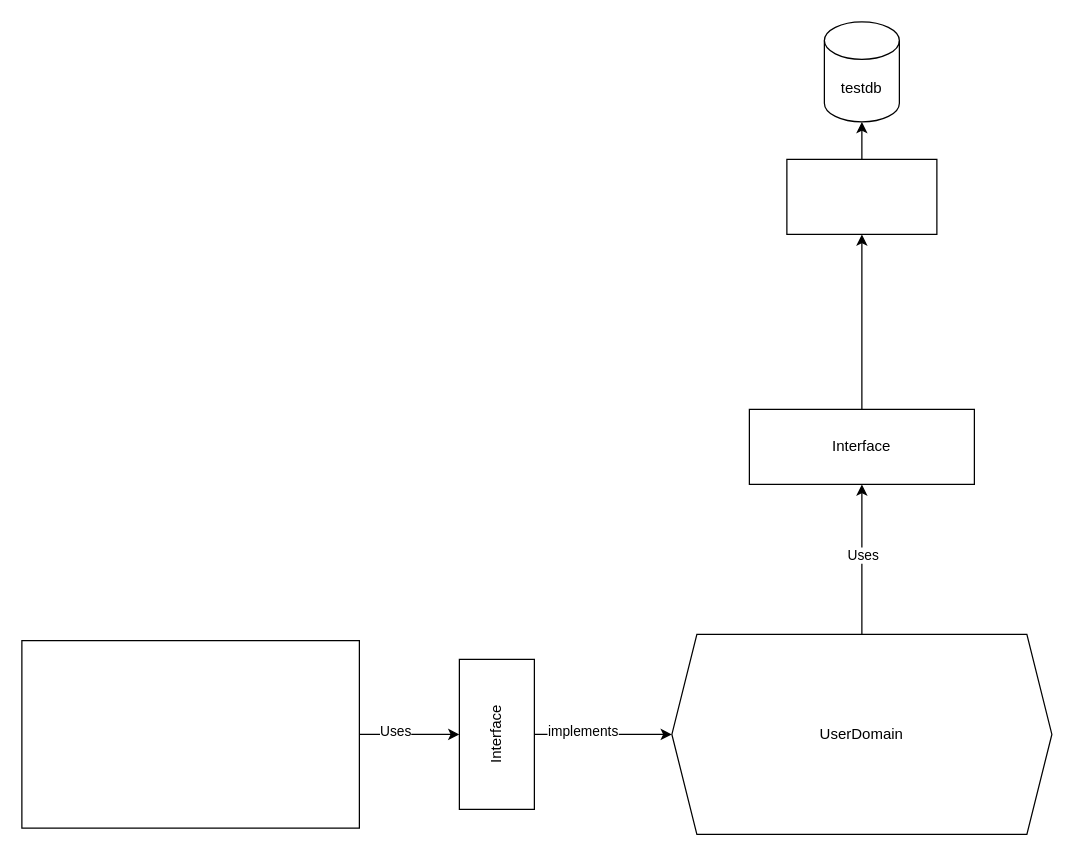
Image size: 1074x856. Some labels were removed from this diagram. Each missing label, with the centre of its shape:
"Repository" belongs at pixel 861 196.
"UserController" belongs at pixel 190 733.
